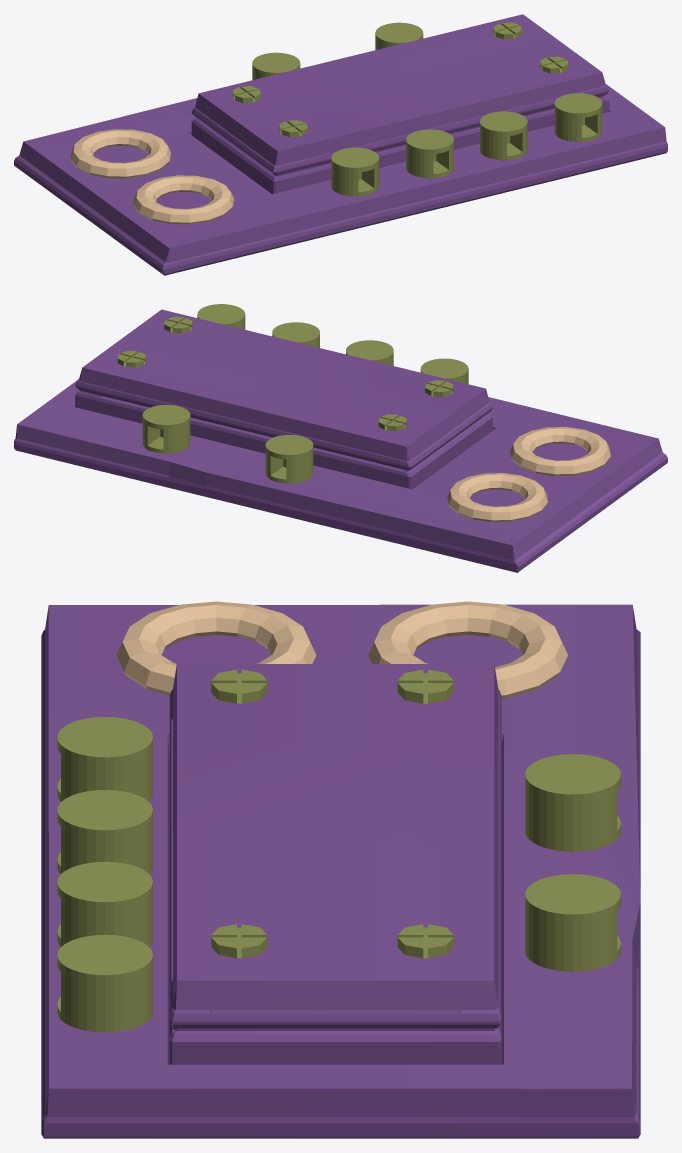
The model's file is longSwitch.fbx.
3 renders of one model, top to bottom at view 1: azimuth 30°, elevation 25°; view 2: azimuth 150°, elevation 25°; view 3: azimuth 270°, elevation 25°, orthographic. The views are drawn at different scales.
Visible parts, largest first — view 1: SWITCH; view 2: SWITCH; view 3: SWITCH.
Part boxes in pixels (x1=…): SWITCH: x1=14, y1=14, x2=667, y2=275; SWITCH: x1=14, y1=304, x2=667, y2=572; SWITCH: x1=41, y1=601, x2=640, y2=1138.
Bounding box in the file's own units: 353 × 46.95 × 181.
